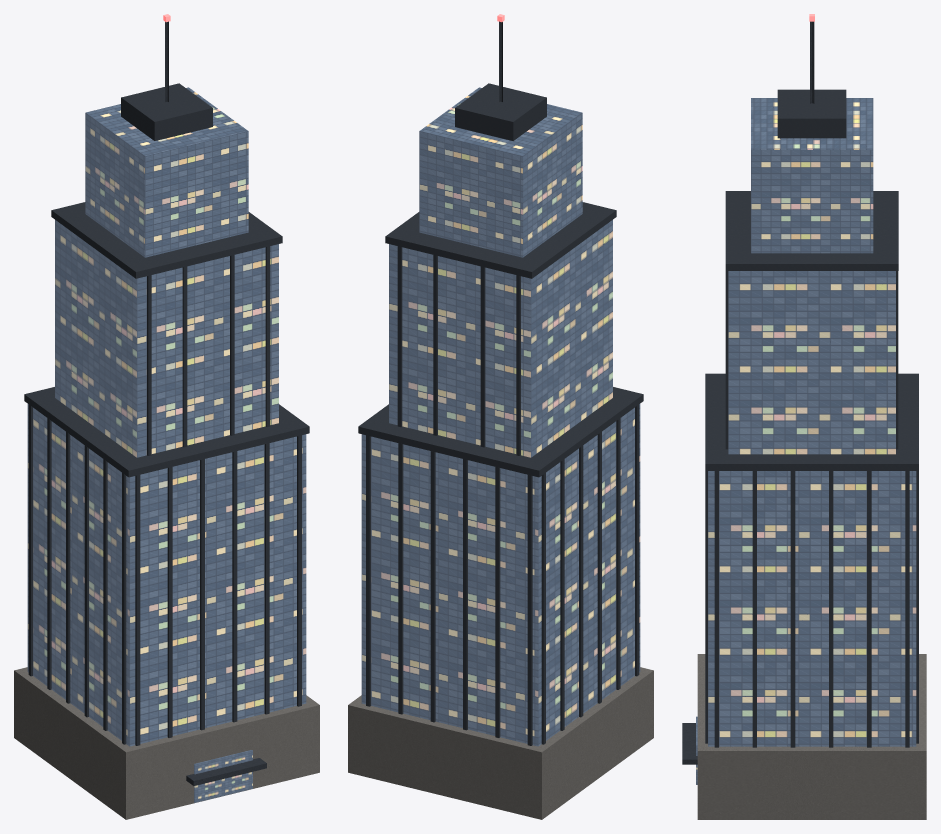
Rendered from nyc_skyscraper_glass.glb.
The picture shows the model from 3 angles, left to right: view 1: azimuth 30°, elevation 25°; view 2: azimuth 150°, elevation 25°; view 3: azimuth 270°, elevation 25°; orthographic projection. The views are drawn at different scales.
Parts seen in each view (by area): view 1: nyc_skyscraper_glass.glb; view 2: nyc_skyscraper_glass.glb; view 3: nyc_skyscraper_glass.glb.
Boxes of the visible parts, bbox=[...] form: nyc_skyscraper_glass.glb: bbox=[14, 14, 319, 819]; nyc_skyscraper_glass.glb: bbox=[348, 14, 653, 819]; nyc_skyscraper_glass.glb: bbox=[682, 14, 926, 819].
Size of the model in its own units: 18 by 65.62 by 19.2.
Materials: 4 (3 with a texture image).
